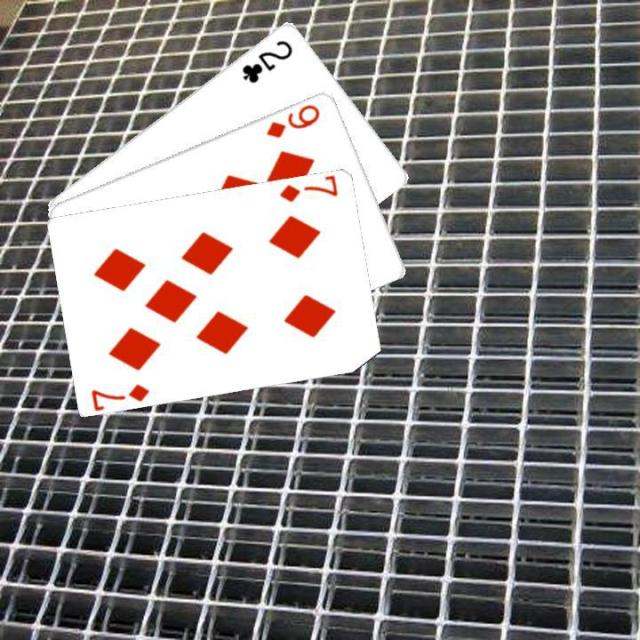2C: (237, 36, 295, 86)
7D: (276, 174, 340, 204), (88, 379, 152, 409)
9D: (262, 100, 322, 140)
